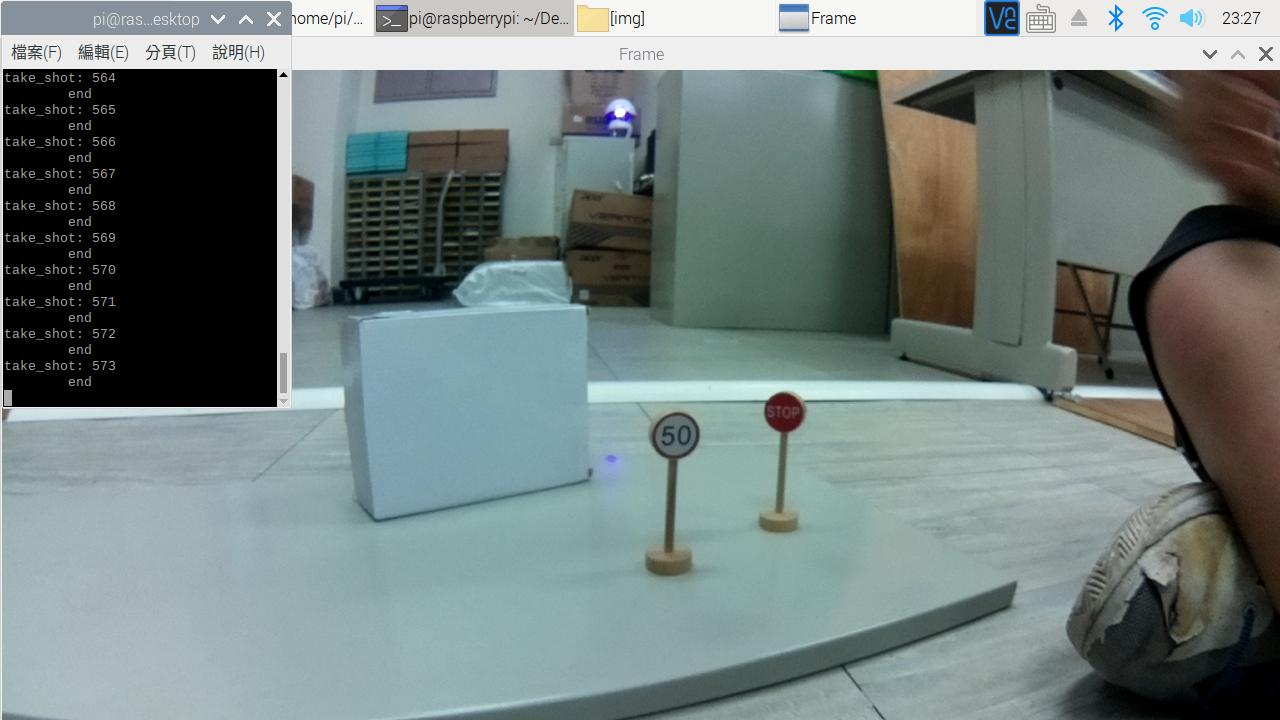Speed50: (638, 411, 705, 462)
Stop: (759, 388, 812, 439)
